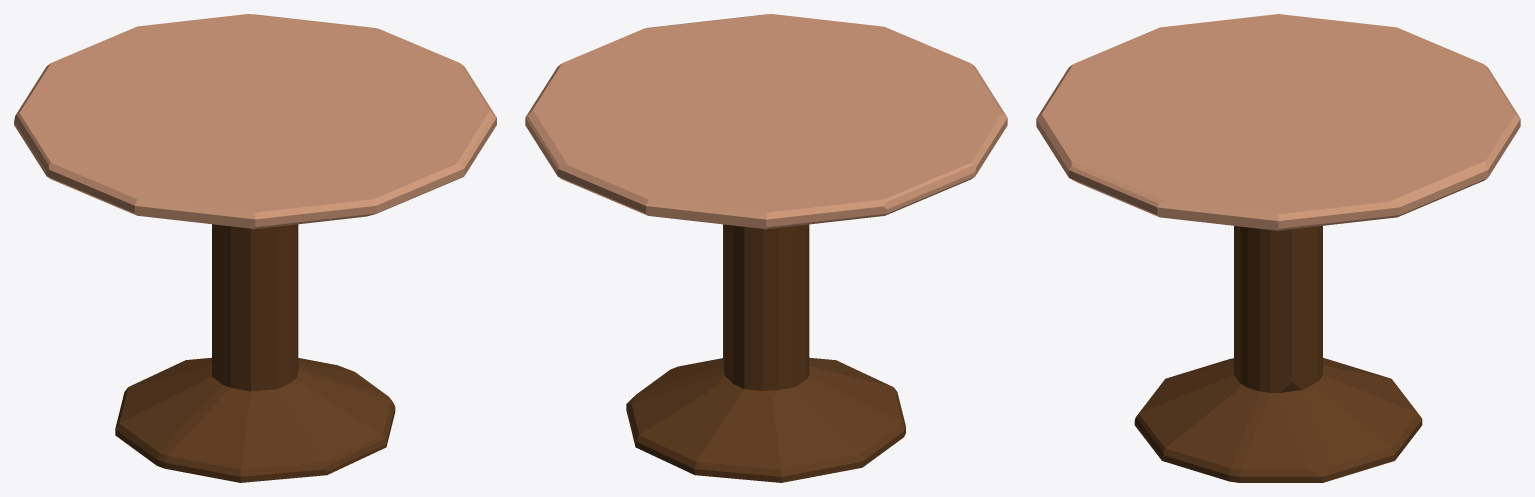
File: RoundTable.fbx
3 renders of one model, left to right at view 1: azimuth 30°, elevation 25°; view 2: azimuth 150°, elevation 25°; view 3: azimuth 270°, elevation 25°, orthographic.
Visible parts, largest first — view 1: Round table; view 2: Round table; view 3: Round table.
Part boxes in pixels (box(x1,y1,x2,y2)): Round table: box(14, 14, 496, 482); Round table: box(525, 14, 1007, 482); Round table: box(1036, 14, 1520, 482).
Bounding box in the file's own units: 200 × 142 × 200.
